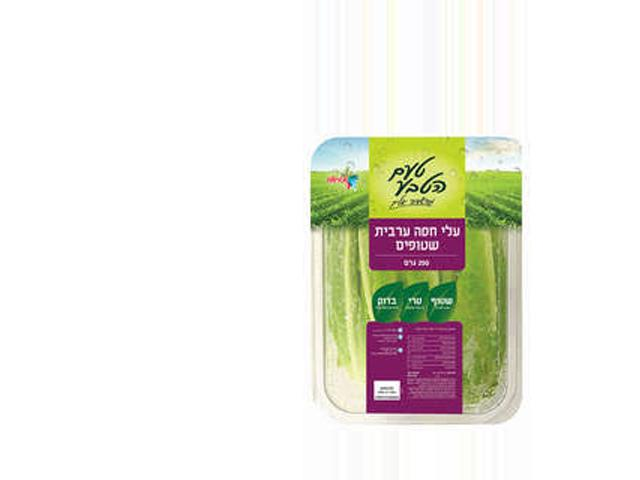lettuce: (304, 156, 522, 426)
